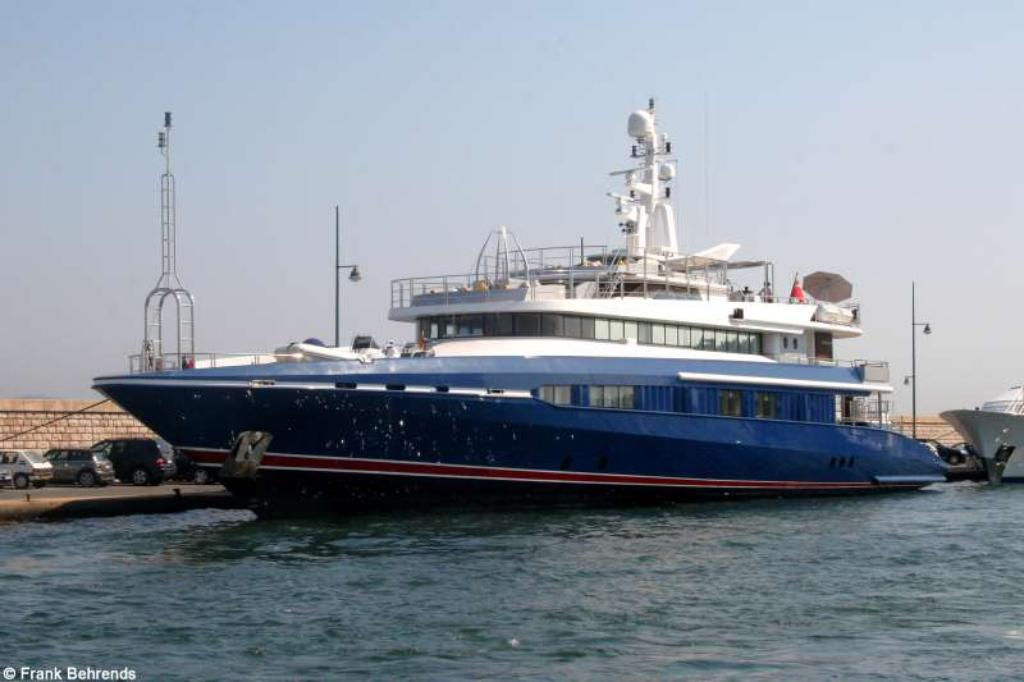PassengerShip: (86, 92, 968, 528), (926, 362, 1024, 490)
